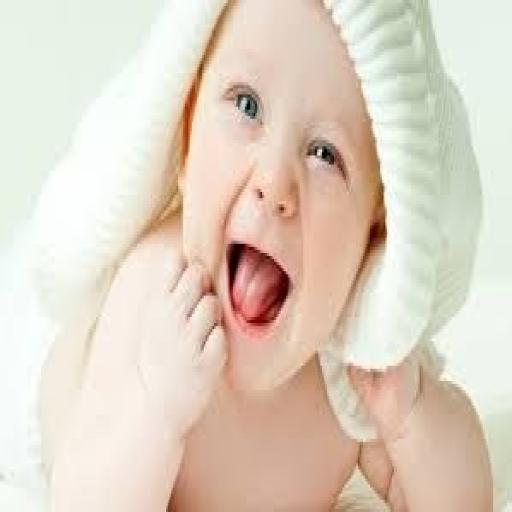laughing: (31, 3, 493, 506)
